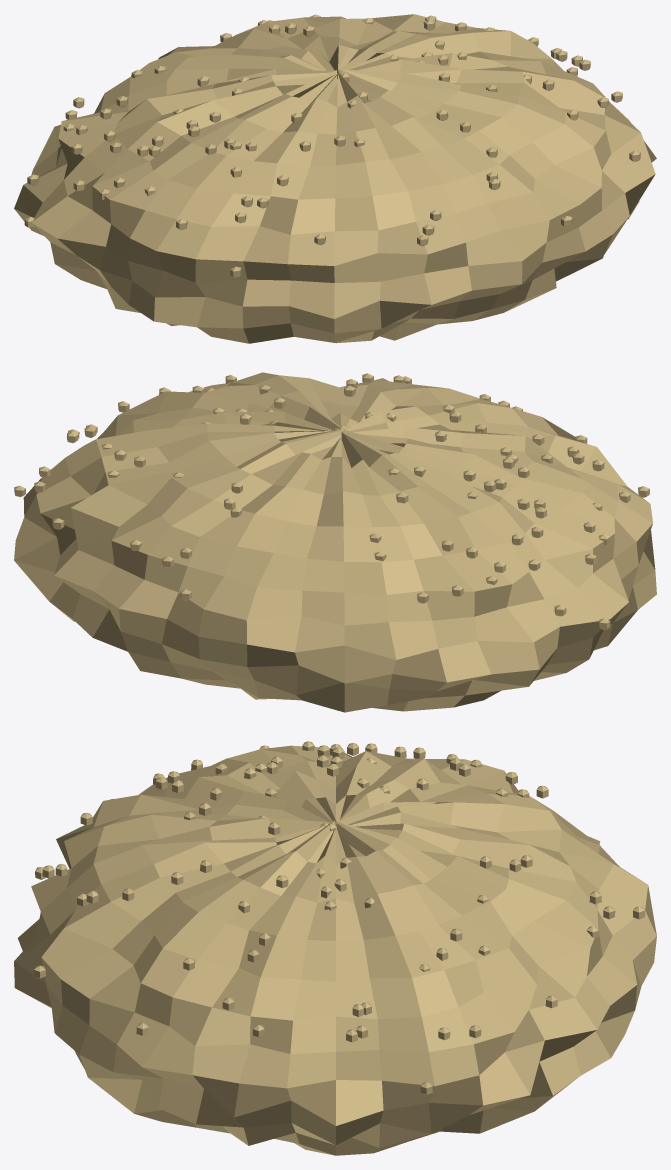
Rendered from ChickpeaFlour.glb.
3 views of the same model, one above another, from view 1: azimuth 30°, elevation 25°; view 2: azimuth 150°, elevation 25°; view 3: azimuth 270°, elevation 25° (orthographic). The views are drawn at different scales.
Parts seen in each view (by area): view 1: ChickpeaFlour; view 2: ChickpeaFlour; view 3: ChickpeaFlour.
Part boxes in pixels (x1,y1,x2,y2): ChickpeaFlour: (14,14,656,343); ChickpeaFlour: (14,372,656,712); ChickpeaFlour: (14,741,656,1155).
Size of what is drawn, in the model's own units: 0.0742 by 0.0278 by 0.0622.
